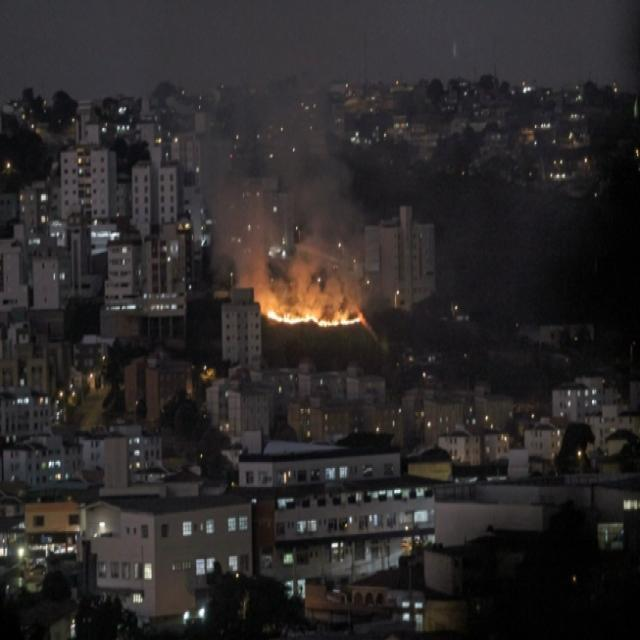Fire: (260, 276, 370, 334)
Smoke: (235, 92, 378, 258)
